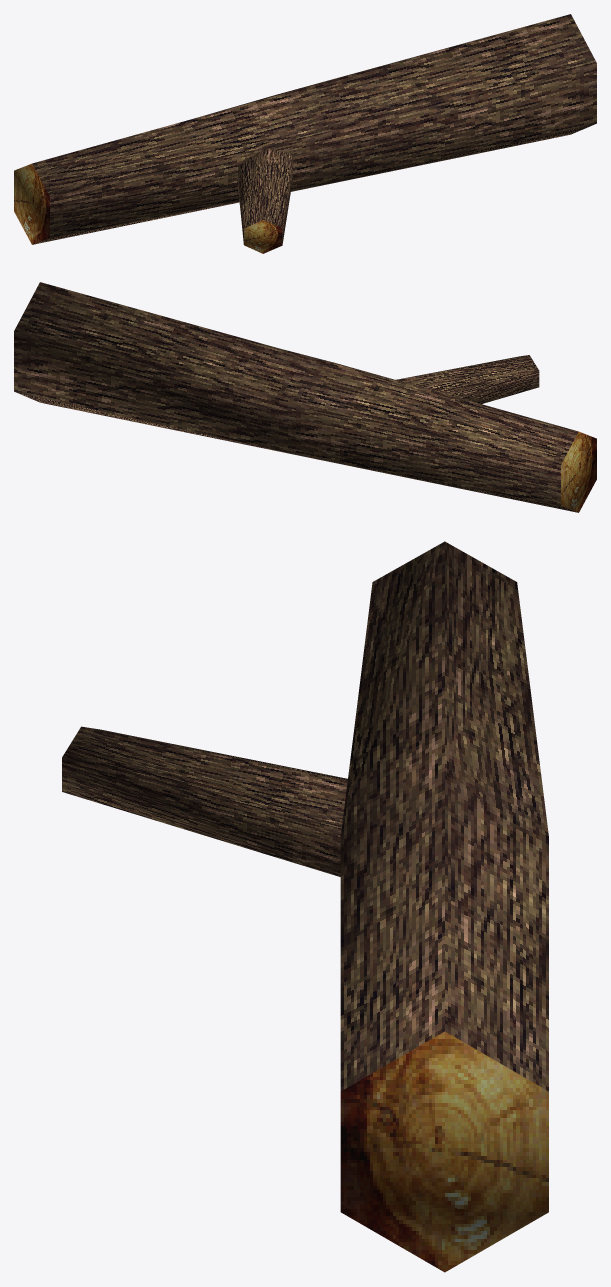
File: LOG_ACTORDEF.fbx
3 renders of one model, top to bottom at view 1: azimuth 30°, elevation 25°; view 2: azimuth 150°, elevation 25°; view 3: azimuth 270°, elevation 25°, orthographic. The views are drawn at different scales.
Parts seen in each view (by area): view 1: U3DMesh; view 2: U3DMesh; view 3: U3DMesh.
Boxes of the visible parts, box(x1,y1,x2,y2) form: U3DMesh: box(14, 14, 596, 253); U3DMesh: box(14, 282, 596, 512); U3DMesh: box(62, 541, 548, 1272).
Size of the model in its own units: 13.73 by 2.94 by 5.37.
